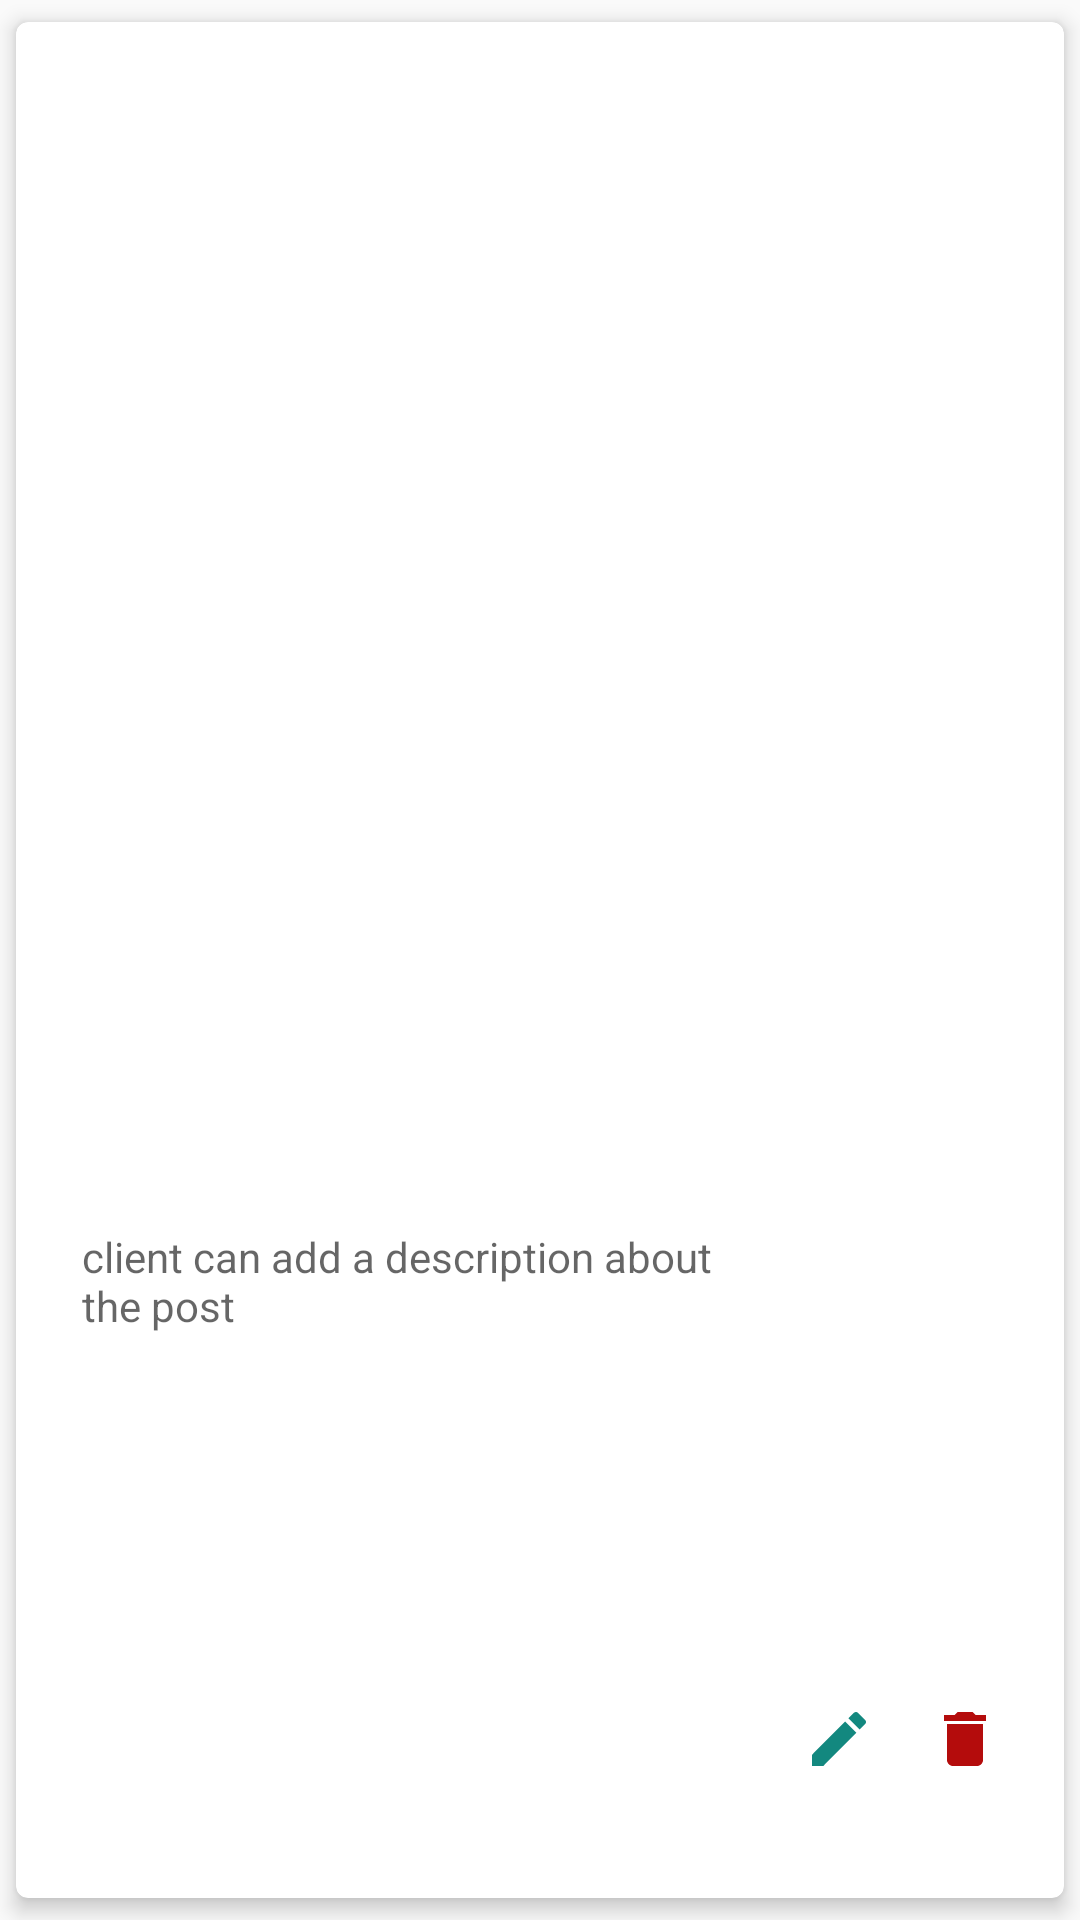

Icon click points for this 1080*1920 phone screenshot, format point (x, y):
delete: point (965, 1739)
edit: point (839, 1739)
